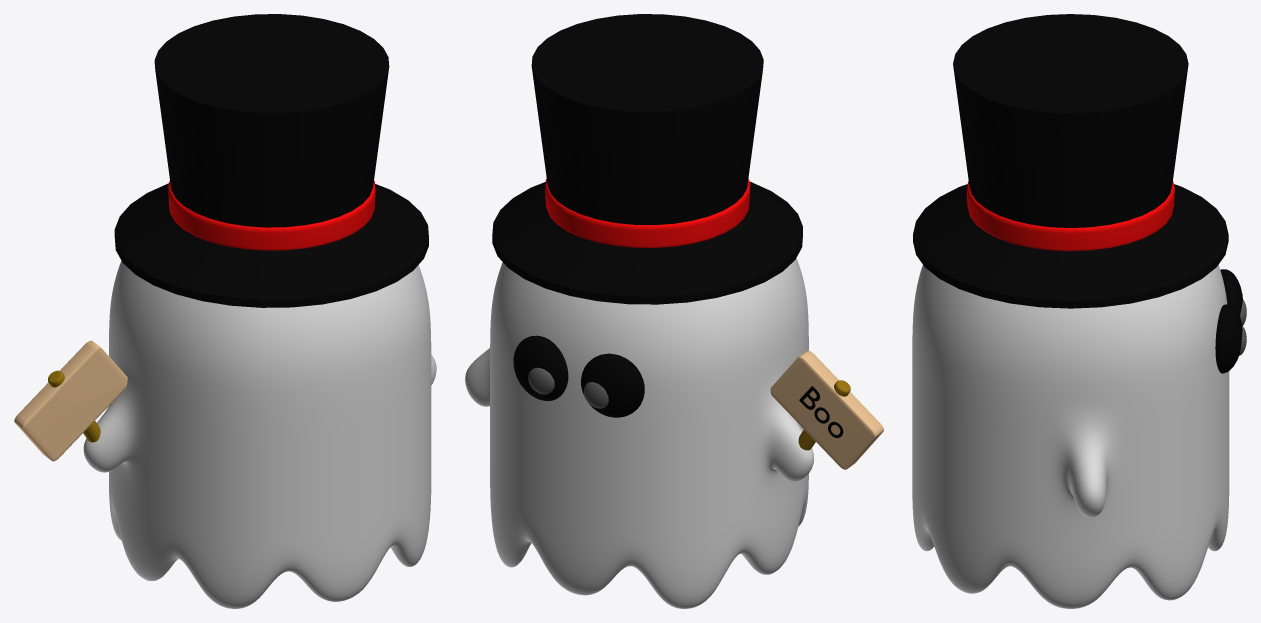
File: Project Name (2).fbx
3 renders of one model, left to right at view 1: azimuth 30°, elevation 25°; view 2: azimuth 150°, elevation 25°; view 3: azimuth 270°, elevation 25°, orthographic.
Parts seen in each view (by area): view 1: Cube, Cylinder.001, Cube.001, Cylinder.002; view 2: Cube, Cylinder.001, Cube.001, Cylinder.002, Sphere.002, Sphere.001, Sphere.004; view 3: Cube, Cylinder.001, Cylinder.002, Sphere.001, Sphere.002.
Part boxes in pixels (<box>): Cube: <box>83,261,436,608</box>; Cylinder.001: <box>114,14,428,307</box>; Cube.001: <box>14,340,127,461</box>; Cylinder.002: <box>168,180,375,250</box>; Cube: <box>465,258,814,608</box>; Cylinder.001: <box>492,14,802,304</box>; Cube.001: <box>770,350,883,469</box>; Cylinder.002: <box>545,178,750,247</box>; Sphere.002: <box>581,353,644,417</box>; Sphere.001: <box>513,335,568,400</box>; Sphere.004: <box>528,367,554,394</box>; Cube: <box>912,265,1229,608</box>; Cylinder.001: <box>913,14,1228,308</box>; Cylinder.002: <box>966,181,1174,251</box>; Sphere.001: <box>1215,304,1242,373</box>; Sphere.002: <box>1220,269,1242,315</box>.
Size of the model in its own units: 2541 by 1761 by 2855.
